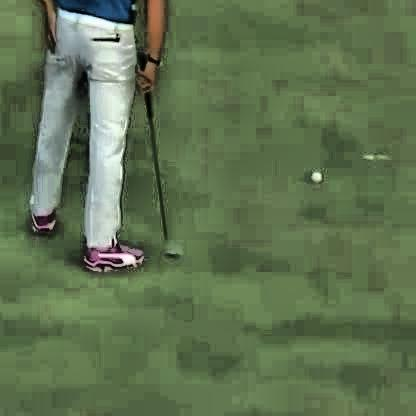golfball: (307, 170, 320, 181)
